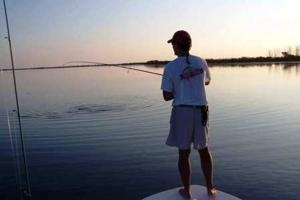person without safety: (157, 29, 225, 200)
